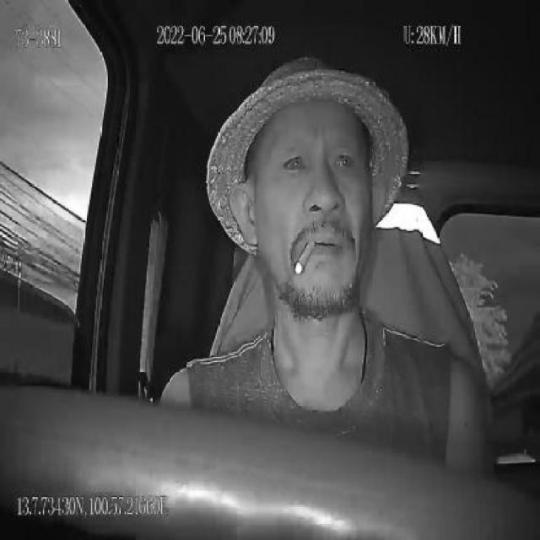smoking: (294, 238, 315, 276)
